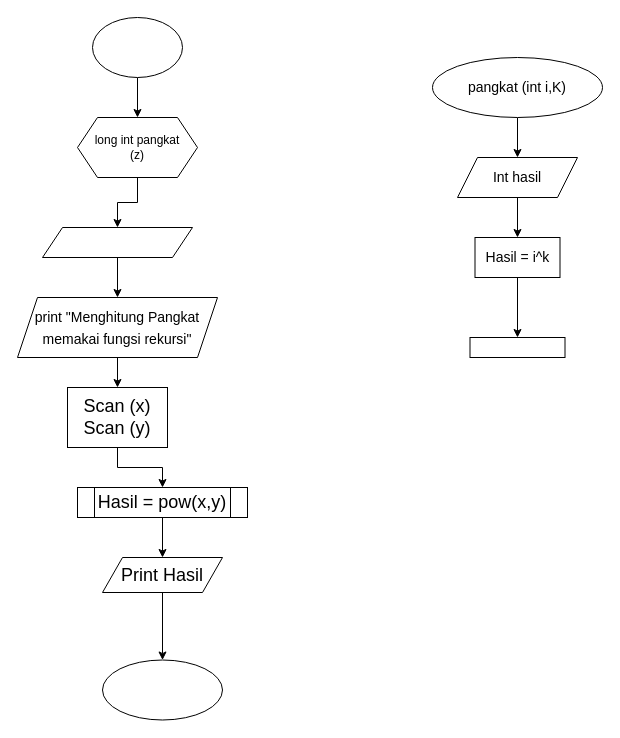
Some shapes in this 620 by 738 pixel diagram are drawn without their labels. Here are the shapes that lost their labels. From the top down, the box of each, then its label:
(92, 16, 182, 78): Start
(42, 226, 192, 258): int x, y, hasil;
(469, 336, 565, 358): return (z);
(102, 659, 222, 720): End
